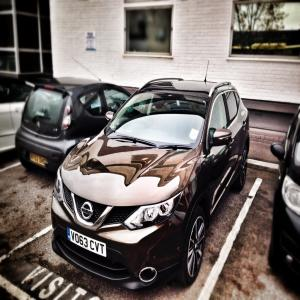Vehicle-registration-plate: (69, 228, 107, 258), (30, 154, 47, 166)
